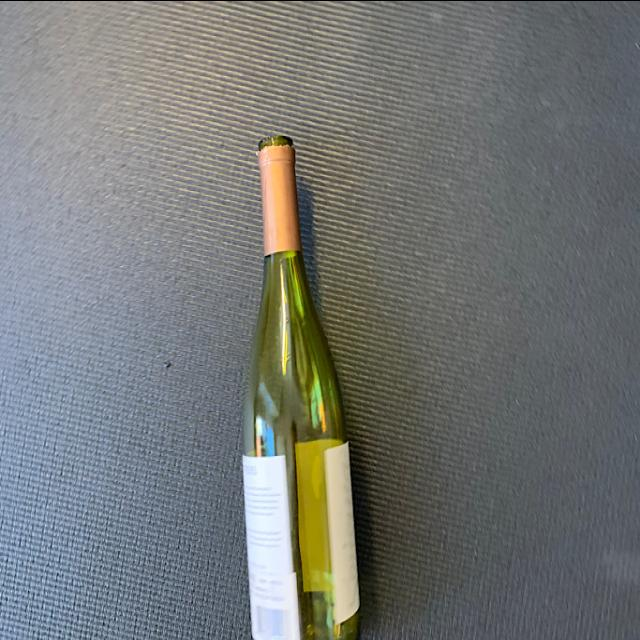litter: (230, 109, 362, 635)
